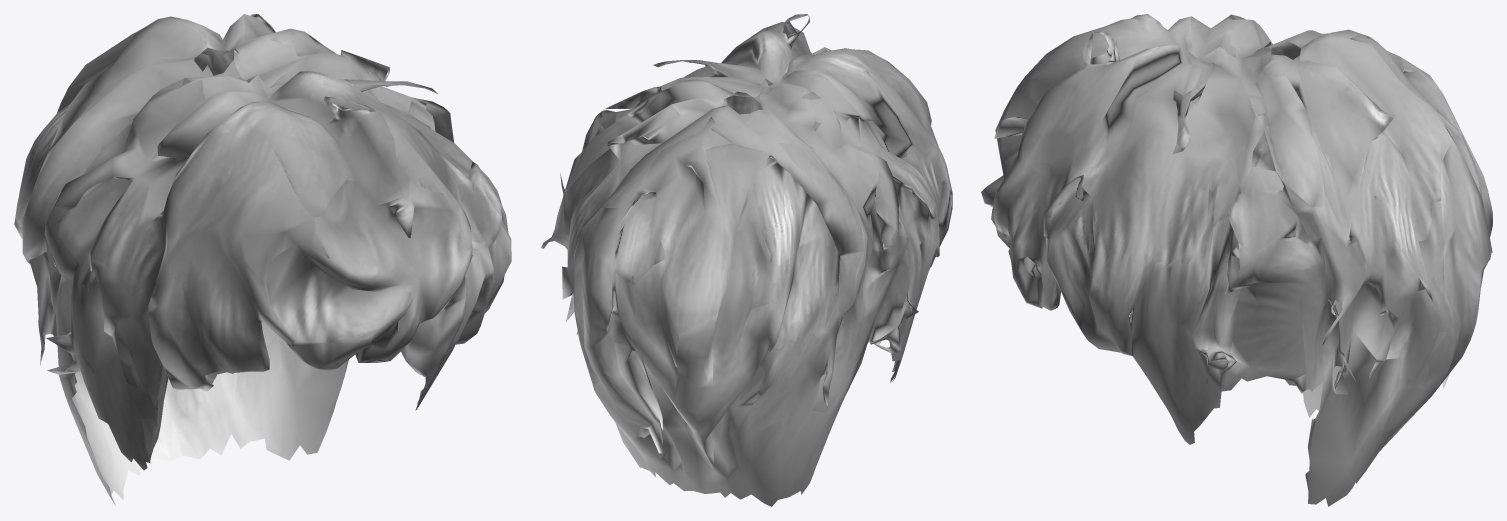
Rendered from wolf-cut.glb.
3 renders of one model, left to right at view 1: azimuth 30°, elevation 25°; view 2: azimuth 150°, elevation 25°; view 3: azimuth 270°, elevation 25°, orthographic. The views are drawn at different scales.
Parts seen in each view (by area): view 1: wolf-cut; view 2: wolf-cut; view 3: wolf-cut.
Boxes of the visible parts, bbox=[...] form: wolf-cut: bbox=[14, 14, 511, 505]; wolf-cut: bbox=[540, 14, 952, 506]; wolf-cut: bbox=[981, 14, 1492, 506].
Bounding box in the file's own units: 0.1564 × 0.172 × 0.1803.
Materials: 1 (1 with a texture image).
